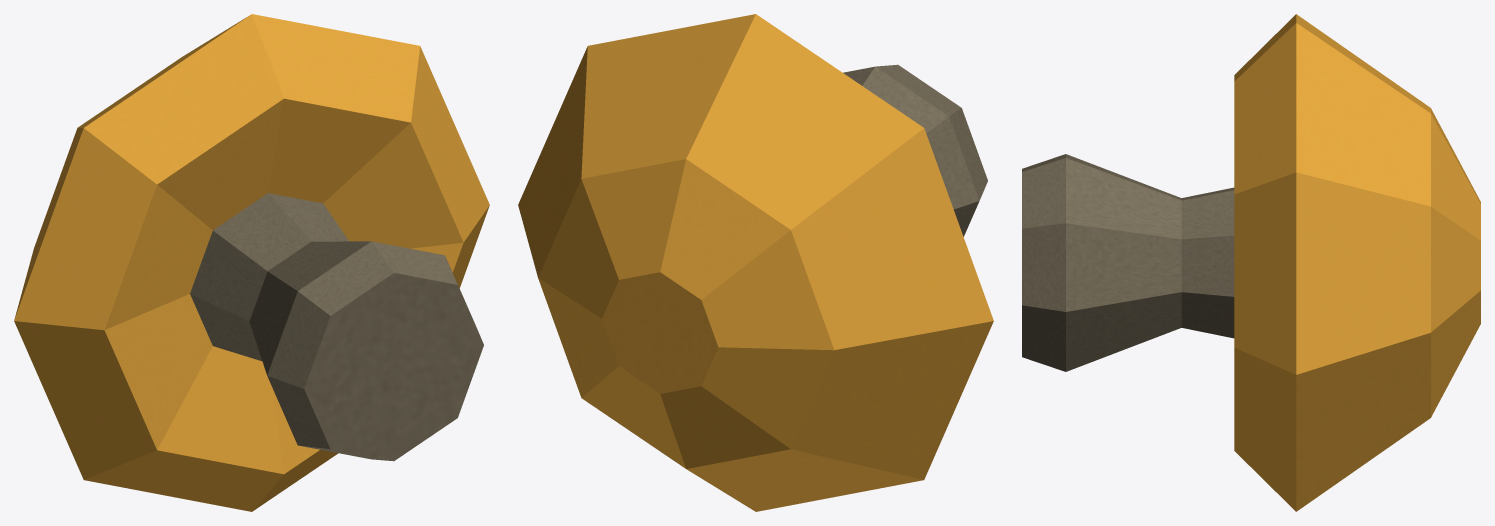
The model's file is all_share_mushroom_2.FBX.
3 views of the same model, side by side, from view 1: azimuth 30°, elevation 25°; view 2: azimuth 150°, elevation 25°; view 3: azimuth 270°, elevation 25° (orthographic). The views are drawn at different scales.
Visible parts, largest first — view 1: mushroom_2; view 2: mushroom_2; view 3: mushroom_2.
Boxes of the visible parts, bbox=[...] form: mushroom_2: bbox=[14, 14, 489, 511]; mushroom_2: bbox=[518, 14, 993, 511]; mushroom_2: bbox=[1022, 14, 1480, 511].
Bounding box in the file's own units: 62.47 × 62.47 × 54.1.
